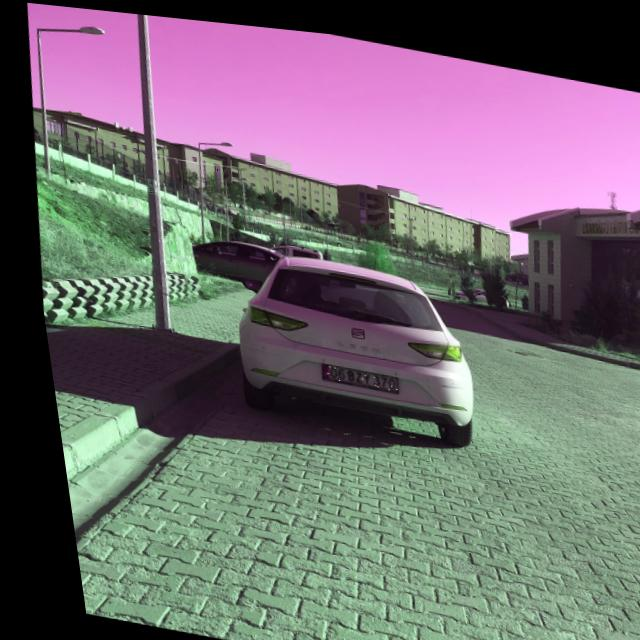license_plate: (311, 357, 389, 384)
